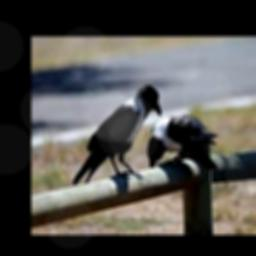Crow: (73, 85, 162, 189), (148, 114, 218, 168)
